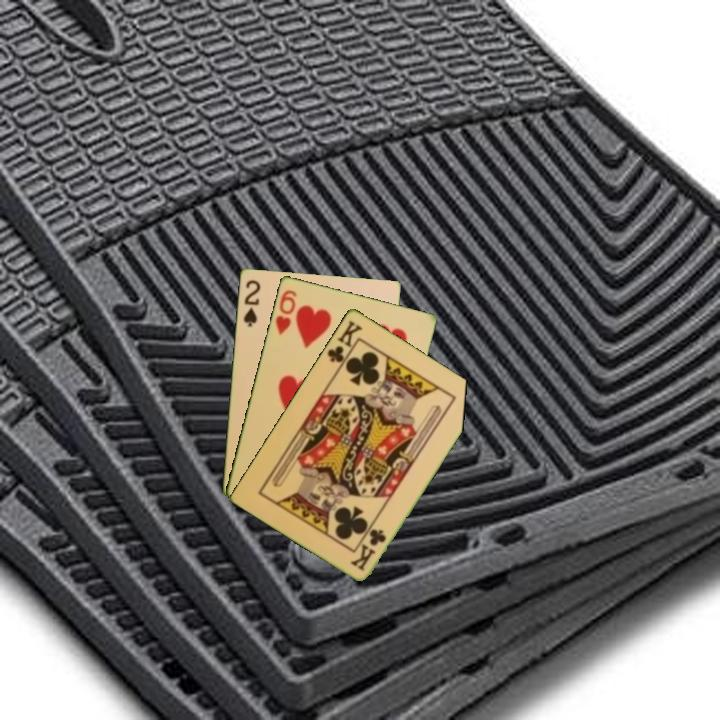2s: (240, 276, 263, 329)
6h: (272, 286, 299, 337)
Kc: (323, 316, 365, 371), (348, 525, 389, 573)
